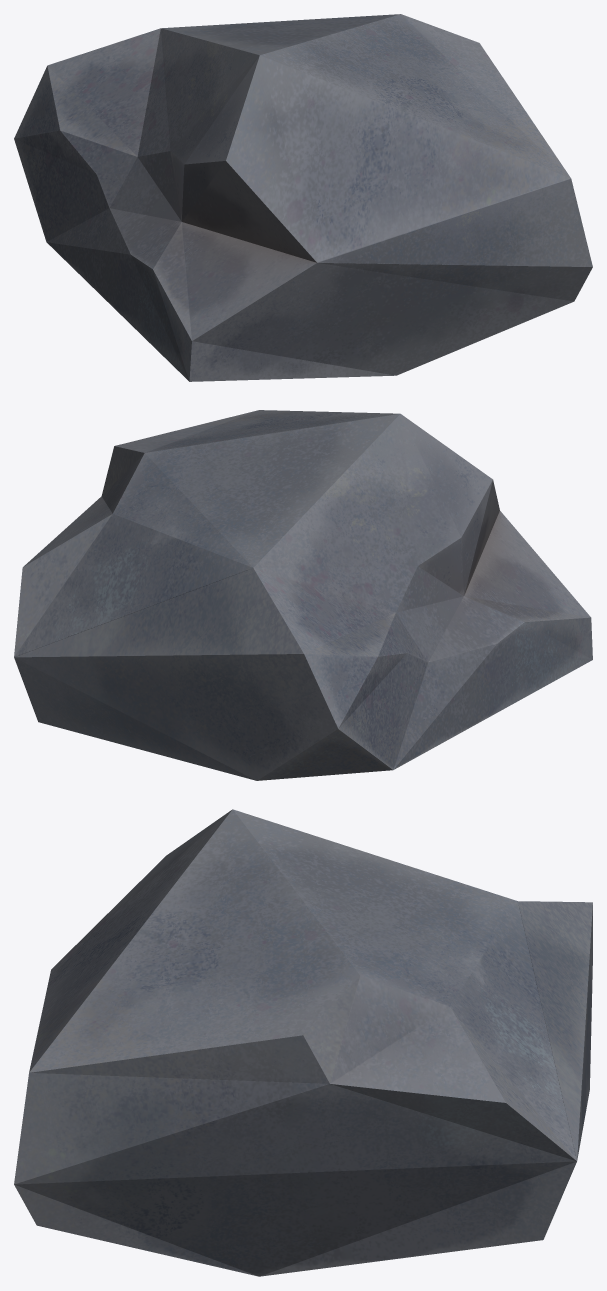
Rendered from stylized_rock_13.fbx.
3 renders of one model, top to bottom at view 1: azimuth 30°, elevation 25°; view 2: azimuth 150°, elevation 25°; view 3: azimuth 270°, elevation 25°, orthographic. The views are drawn at different scales.
Parts seen in each view (by area): view 1: stylized_rock_13; view 2: stylized_rock_13; view 3: stylized_rock_13.
Boxes of the visible parts, box(x1,y1,x2,y2) form: stylized_rock_13: box(14, 14, 592, 381); stylized_rock_13: box(14, 410, 592, 780); stylized_rock_13: box(14, 809, 592, 1276).
Size of the model in its own units: 46.45 by 35.38 by 51.9.
